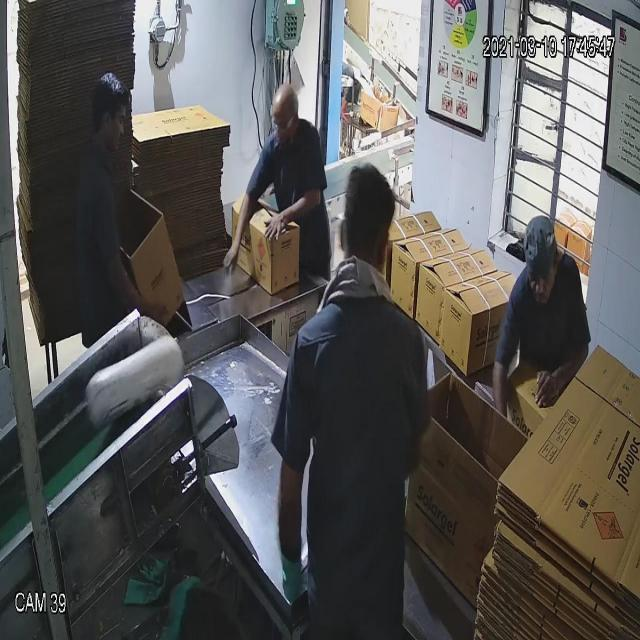No_Gloves: (34, 70, 564, 378)
